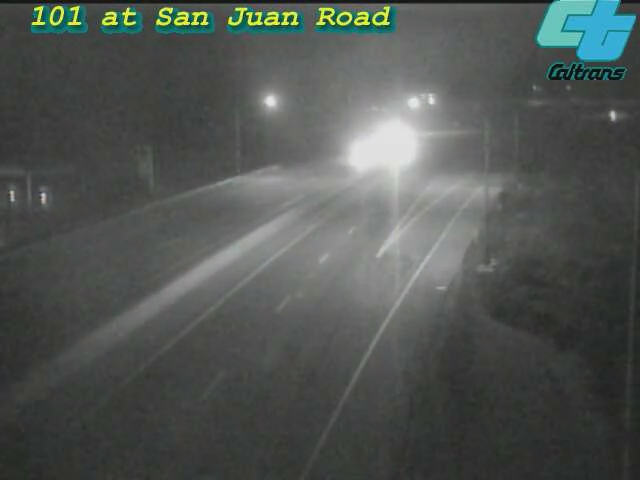vehicle: (588, 91, 638, 141), (339, 130, 389, 180), (367, 118, 417, 168)
